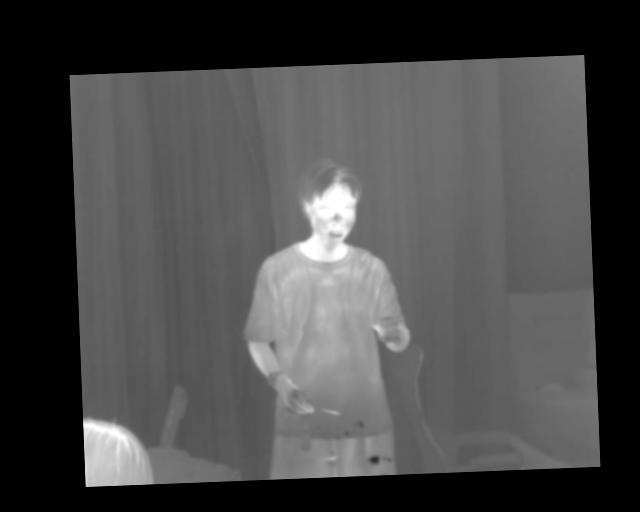face: (299, 159, 363, 250)
